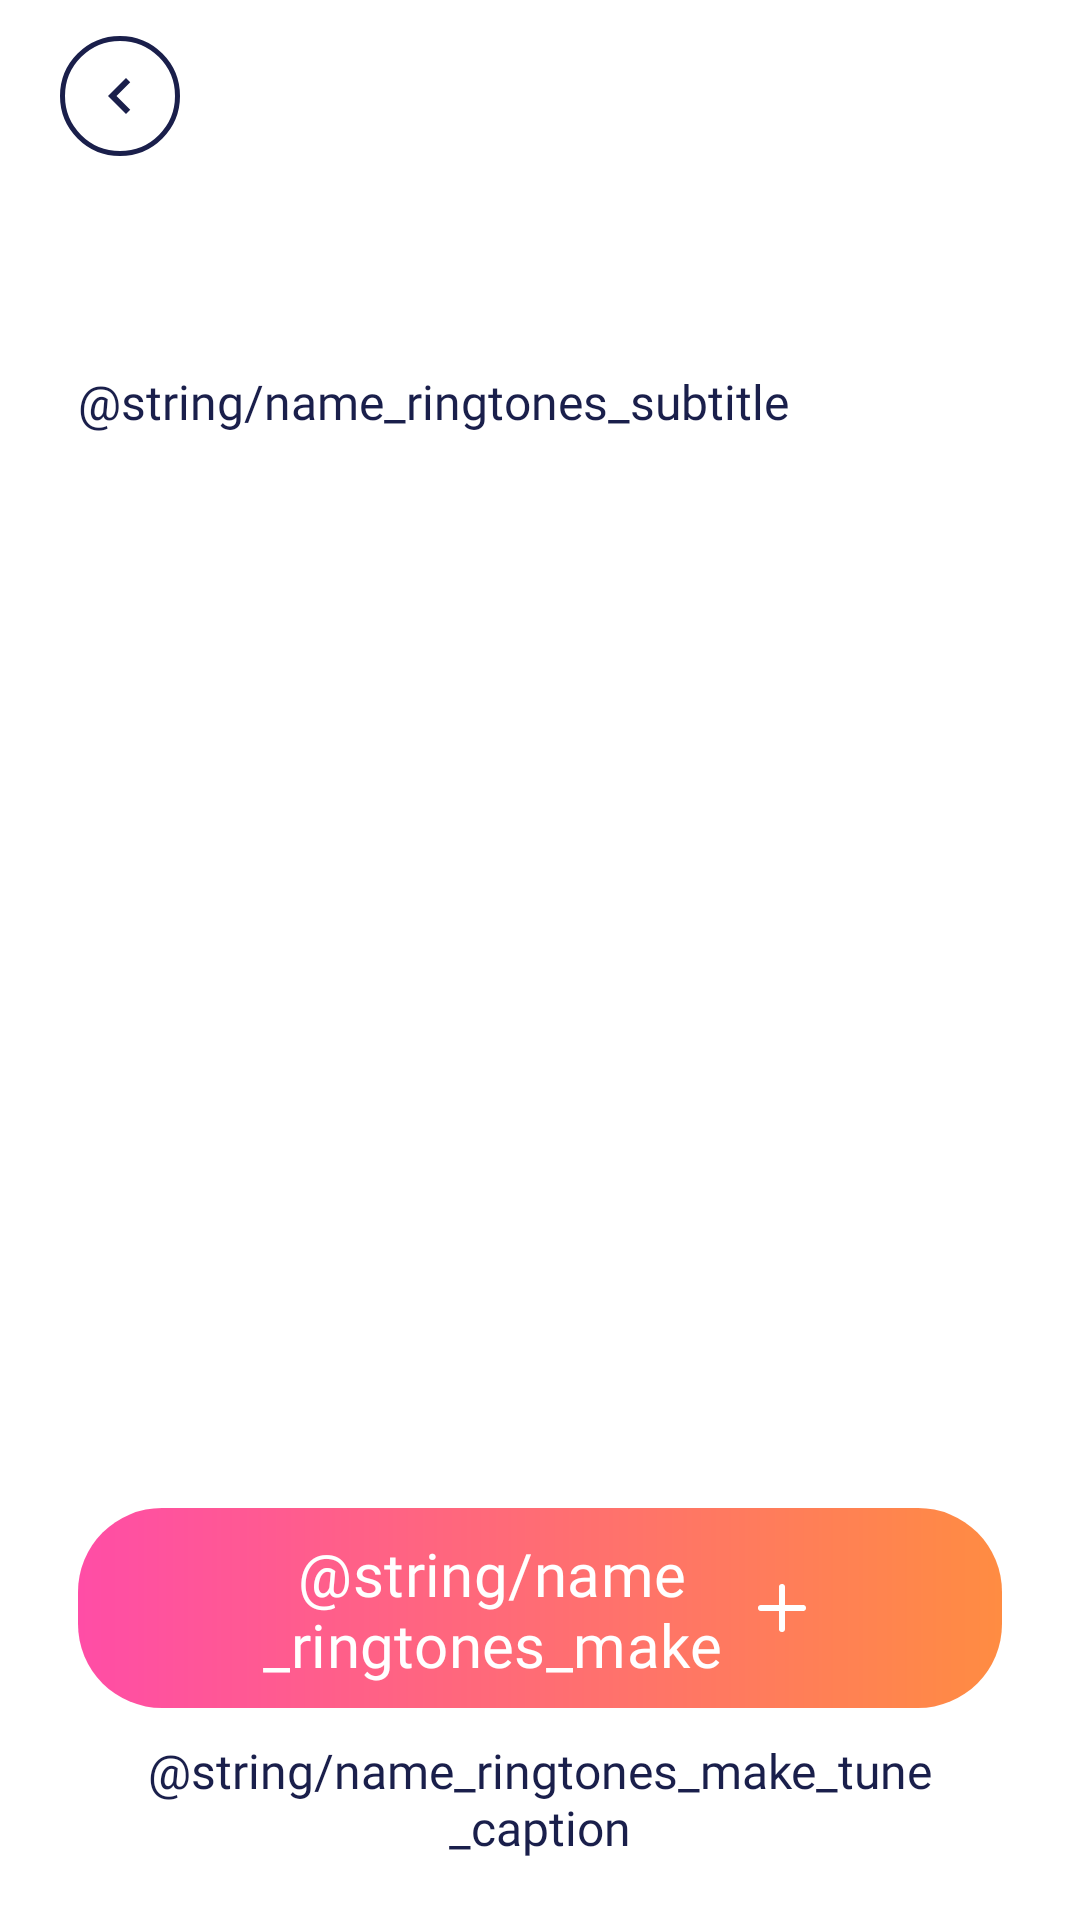

Icons on this 1080×1920 Android screen, each with the point to tap as point (x, y):
Back: point (120, 96)
